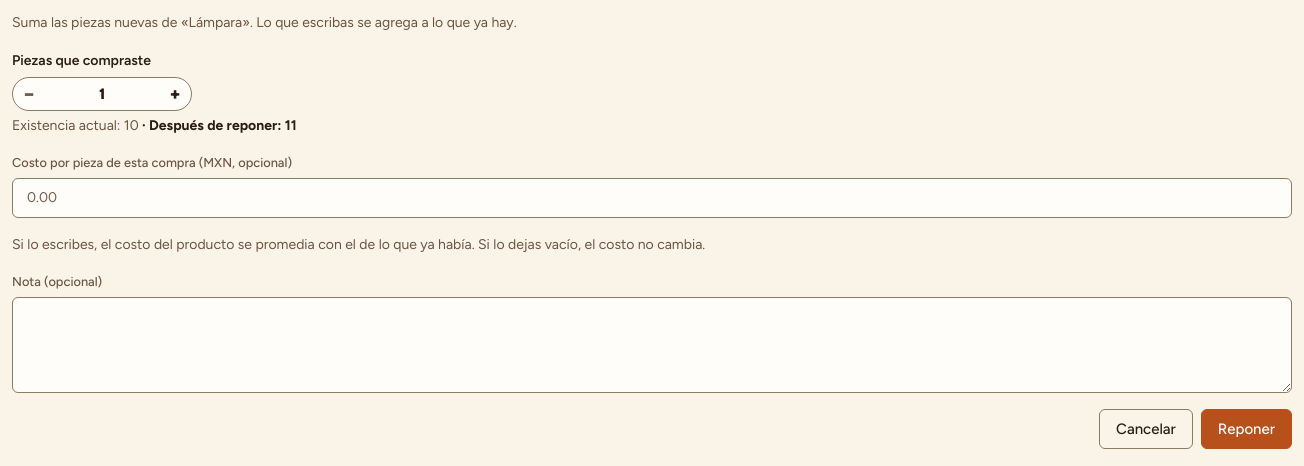
Scenario: ProductRestockForm › cantidad › + y − cambian la cantidad y la existencia resultante
Click the button "+".
click(175, 94)  # box x1=159 y1=78 x2=191 y2=110
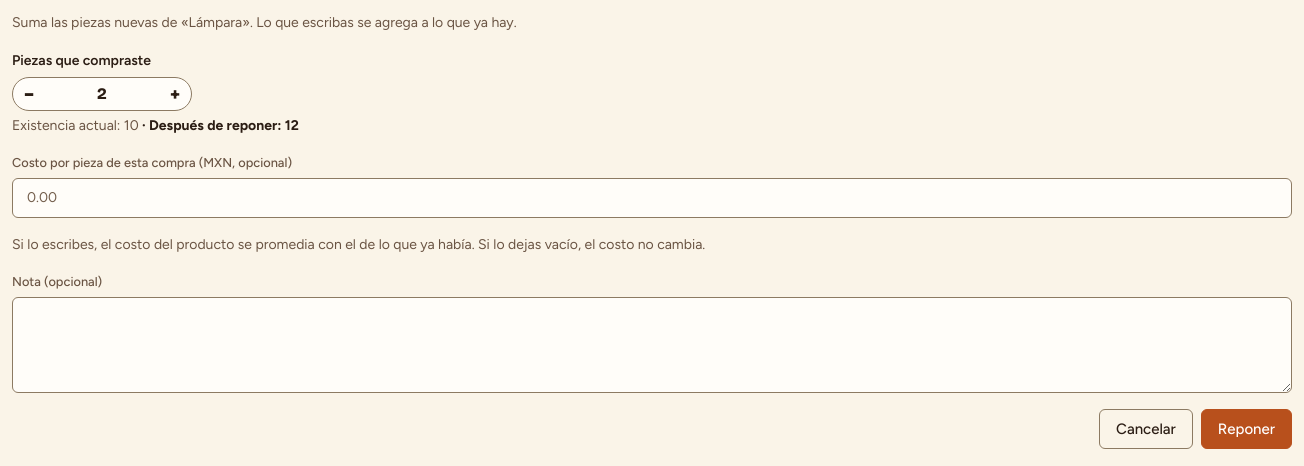
Click the button "+".
click(175, 94)  # box x1=159 y1=78 x2=191 y2=110
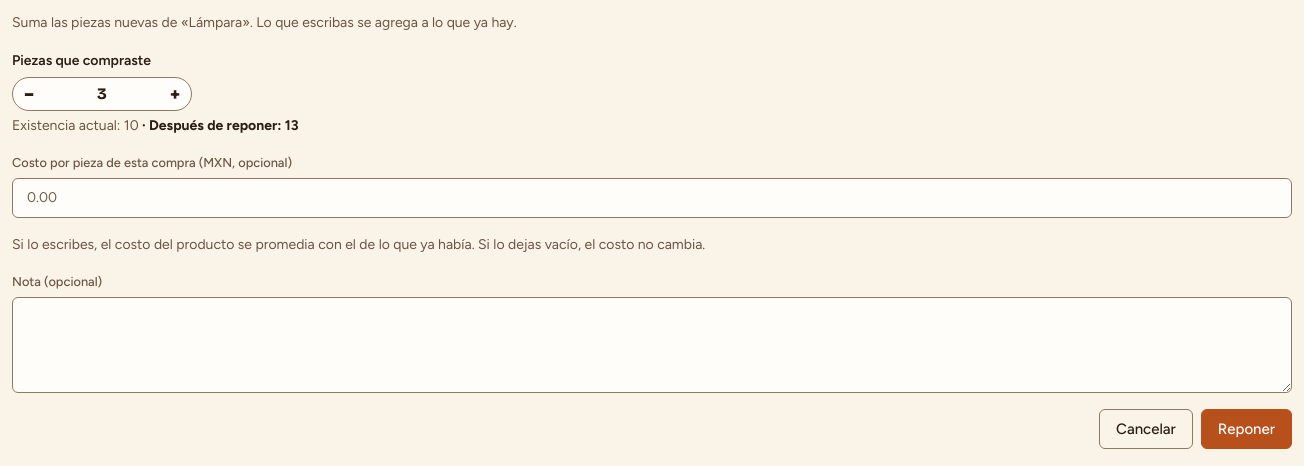
Expected: the text "Después de reponer: 13" is shown, x1=142 y1=117 x2=298 y2=134
Click the button "−".
click(29, 94)  # box x1=13 y1=78 x2=45 y2=110
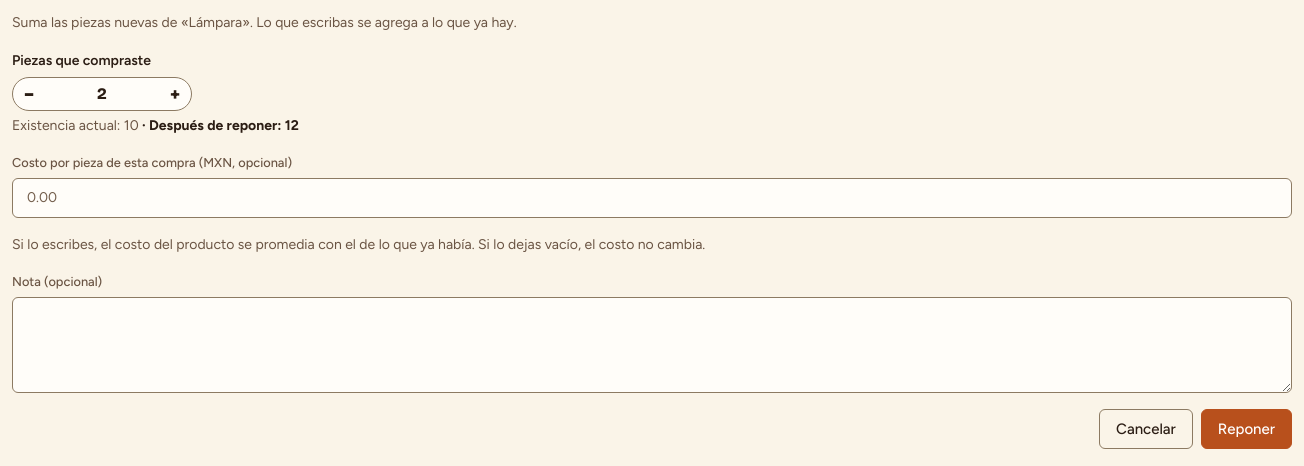
Expected: the text "Después de reponer: 12" is shown, x1=142 y1=117 x2=299 y2=134
